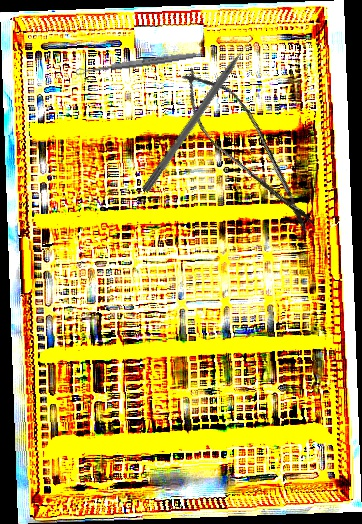Micro Scissor: (167, 56, 331, 243)
Pusher: (141, 32, 259, 195)
Surgical Spoon: (75, 51, 197, 76)
